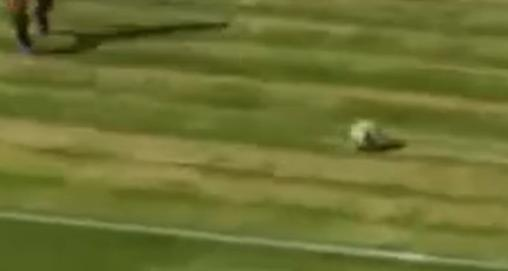ball: (340, 110, 388, 157)
